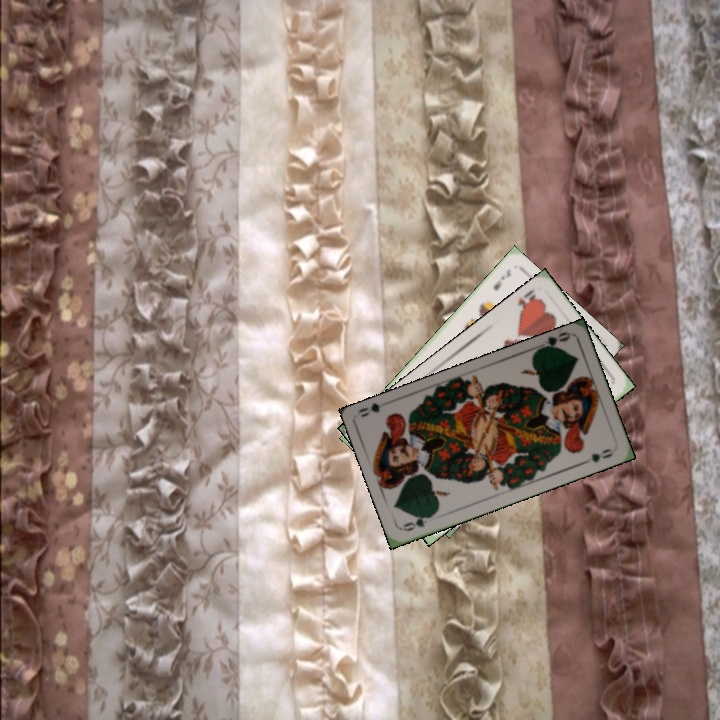E7: (489, 265, 514, 293)
GO: (534, 328, 572, 353), (399, 510, 437, 534)
HO: (513, 290, 543, 318)
